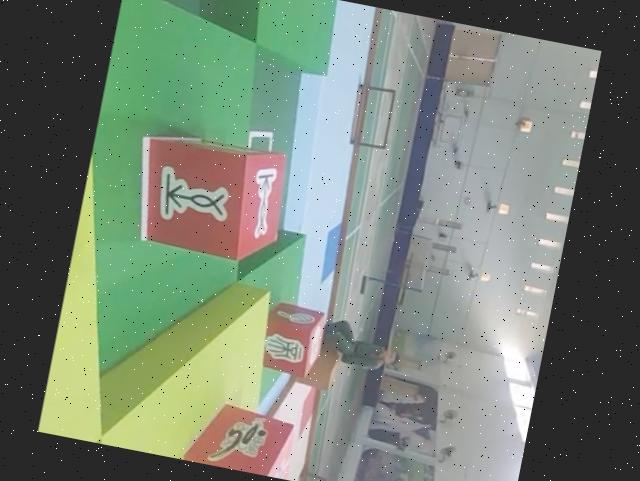R1: (183, 396, 298, 479)
R2 Fake: (259, 296, 328, 380)
R2 Real: (127, 129, 297, 269)
